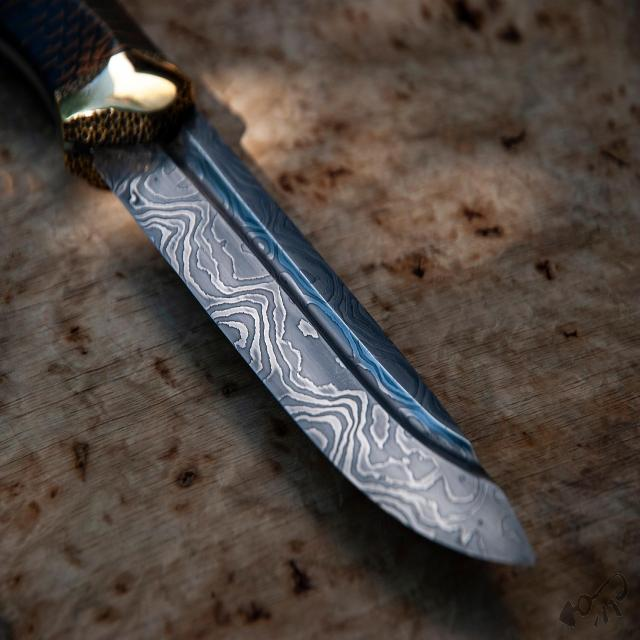Knife: (0, 0, 534, 563)
